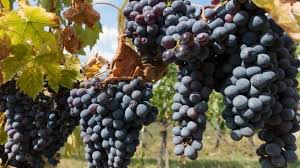Black grapes: (217, 4, 286, 140), (168, 4, 220, 164), (61, 73, 148, 168), (2, 76, 59, 168)
